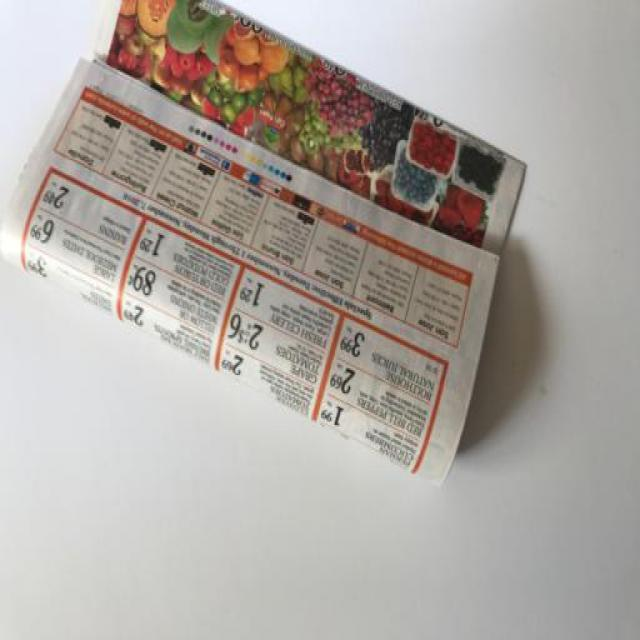paper: (4, 1, 603, 543)
